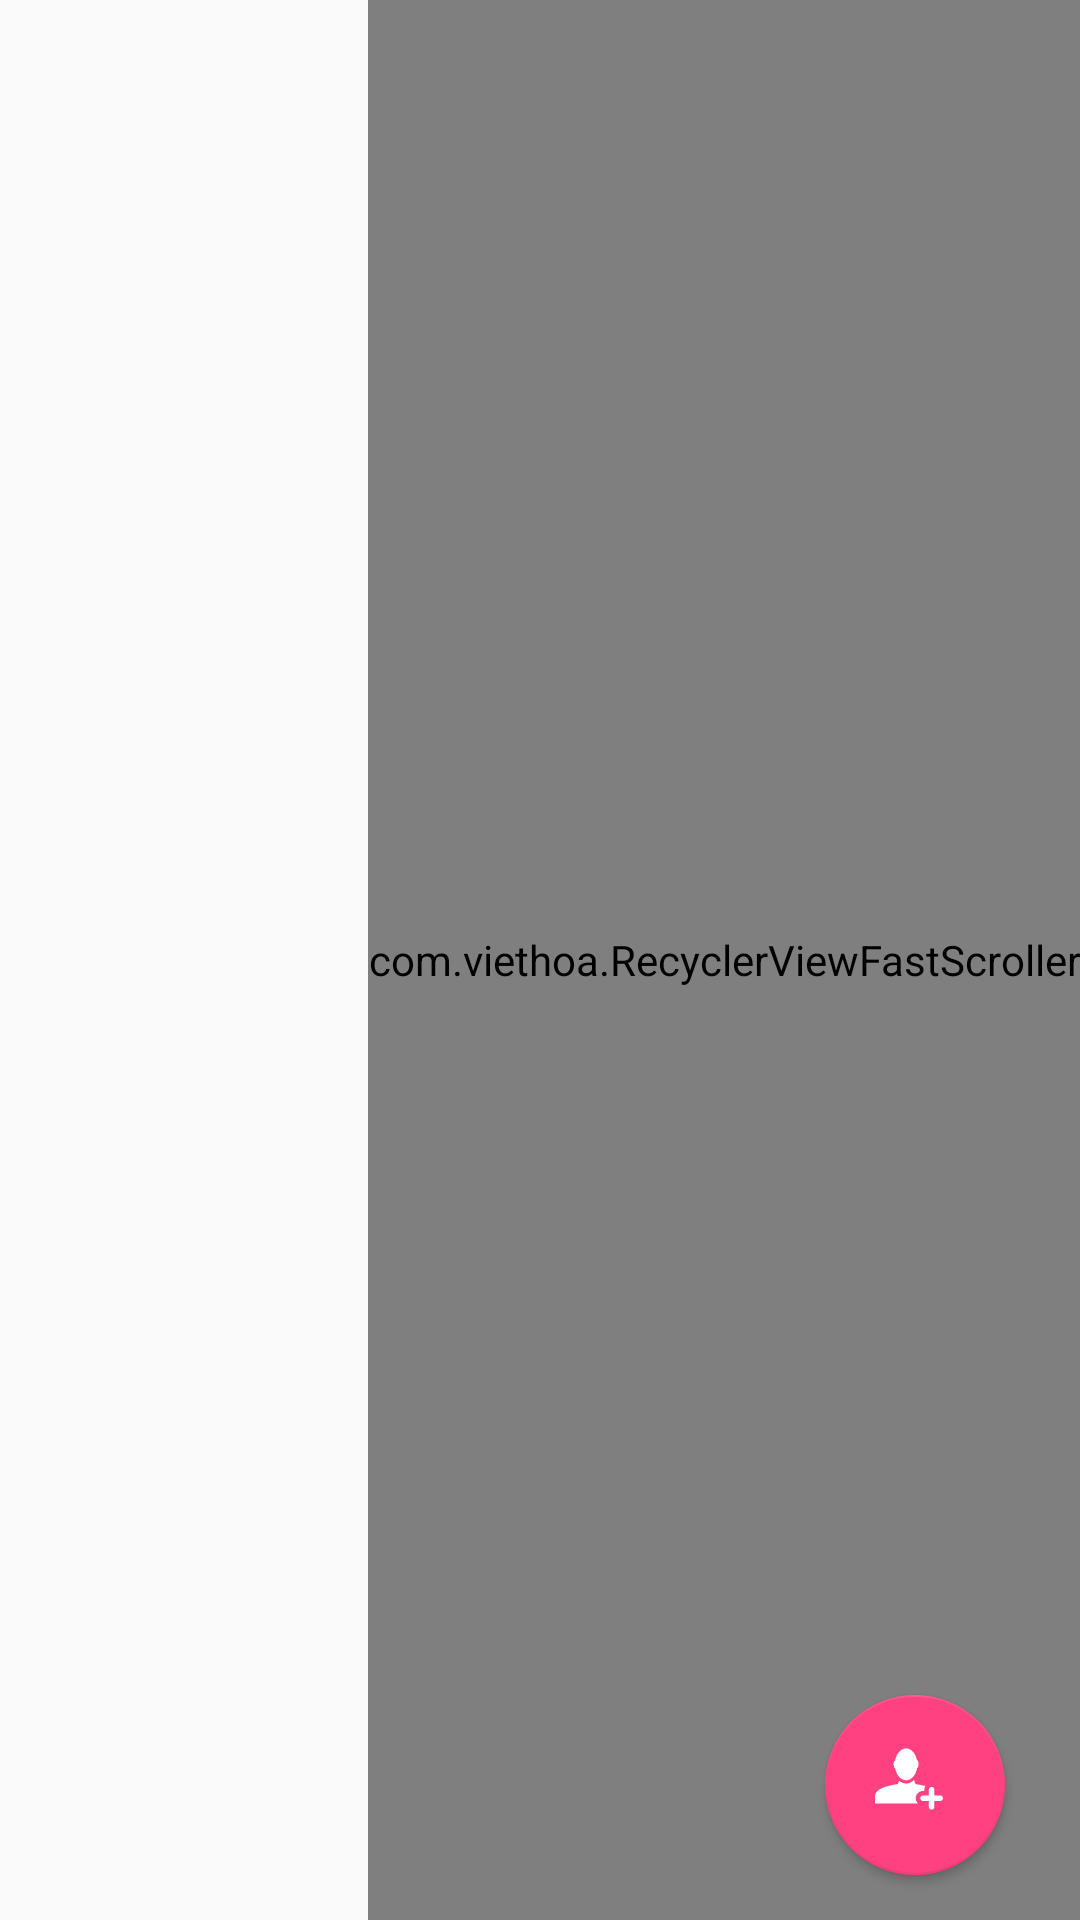

Locate icon controls on the screen. Image size 1080 × 1920, boxes as (x1, y1, x2, y2).
add user: (825, 1695, 1005, 1875)
